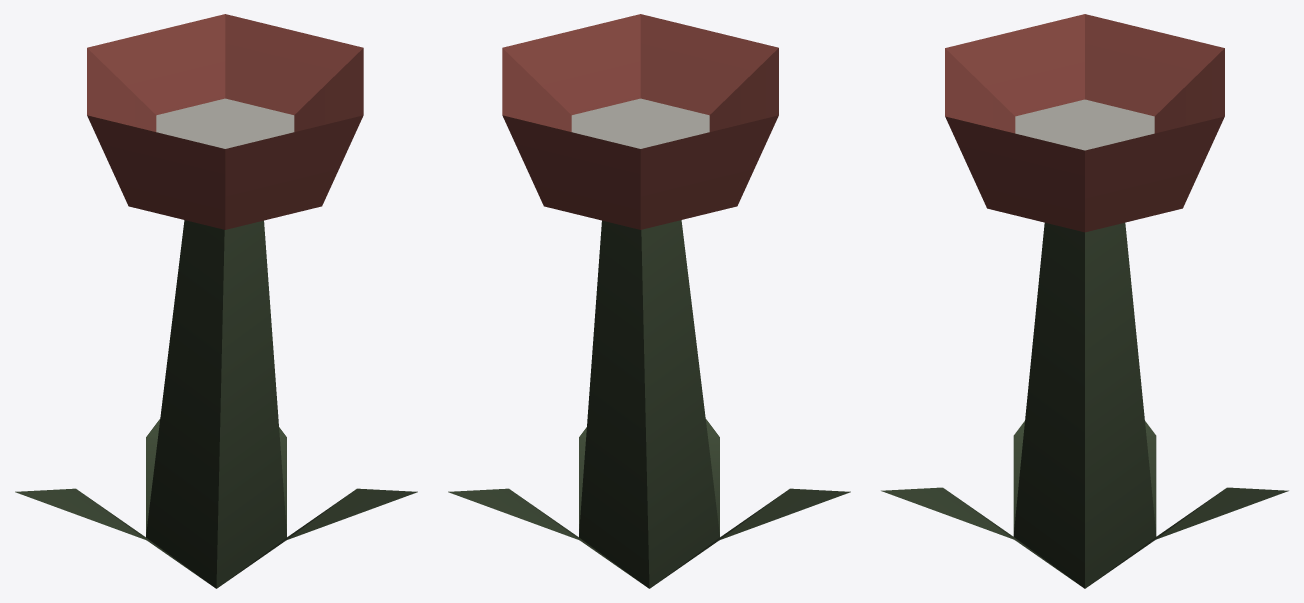
Rendered from blume_rot2.glb.
The picture shows the model from 3 angles, left to right: view 1: azimuth 30°, elevation 25°; view 2: azimuth 150°, elevation 25°; view 3: azimuth 270°, elevation 25°; orthographic projection.
Visible parts, largest first — view 1: blume_rot2; view 2: blume_rot2; view 3: blume_rot2.
Boxes of the visible parts, box(x1,y1,x2,y2) form: blume_rot2: box(15, 14, 417, 588); blume_rot2: box(448, 14, 850, 588); blume_rot2: box(881, 14, 1288, 588).
Bounding box in the file's own units: 0.2175 × 0.28 × 0.218.
